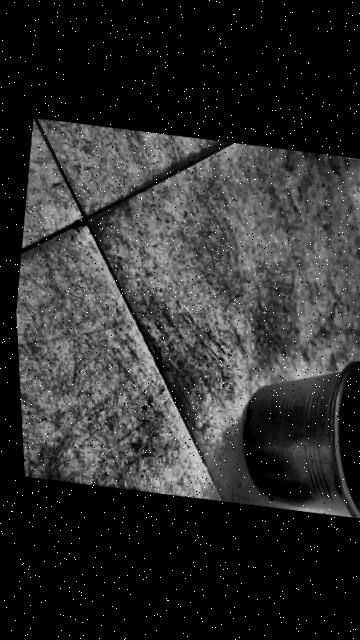pot: (230, 344, 360, 520)
